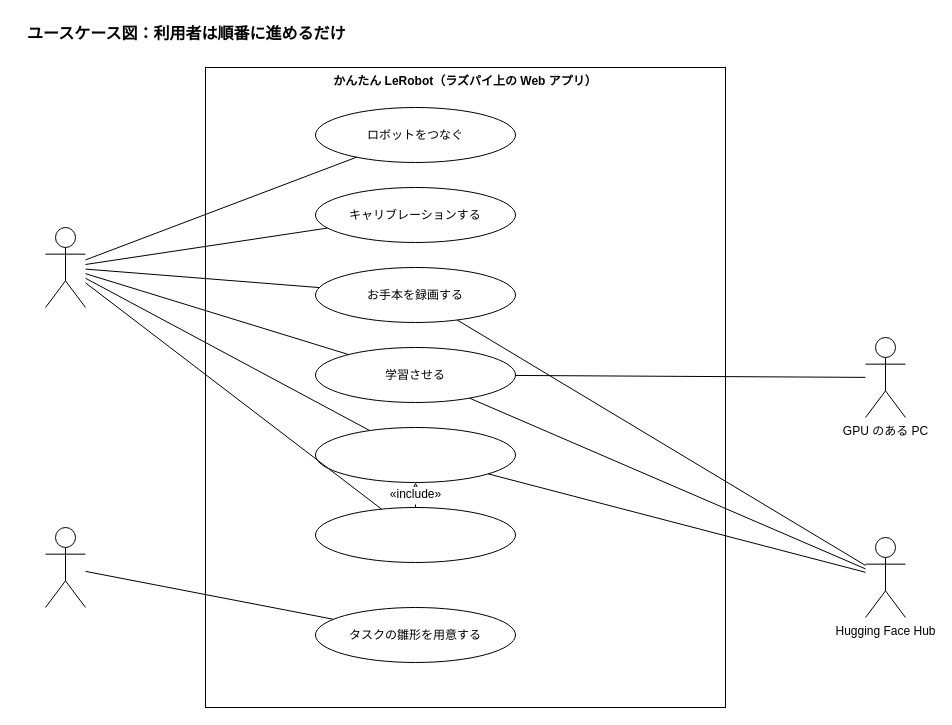
This 952x725 diagram has some shape labels left out. The centre of each missing label's shape, as x and y in pixels:
利用者（初心者）: point 65,267
成功・失敗を記録する: point 415,534
指導者: point 65,567
自動で動かす（デモ）: point 415,454
